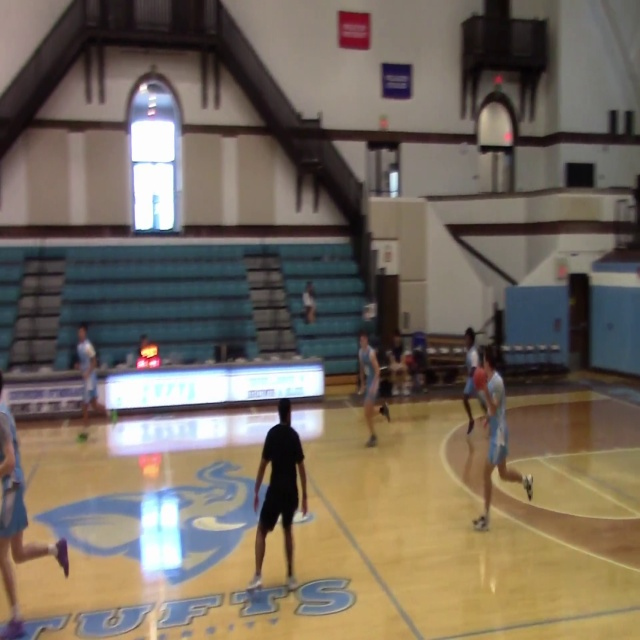Basketball: (472, 367, 487, 390), (77, 433, 88, 442)
